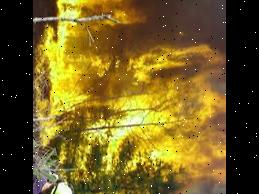fire: (44, 0, 226, 183)
